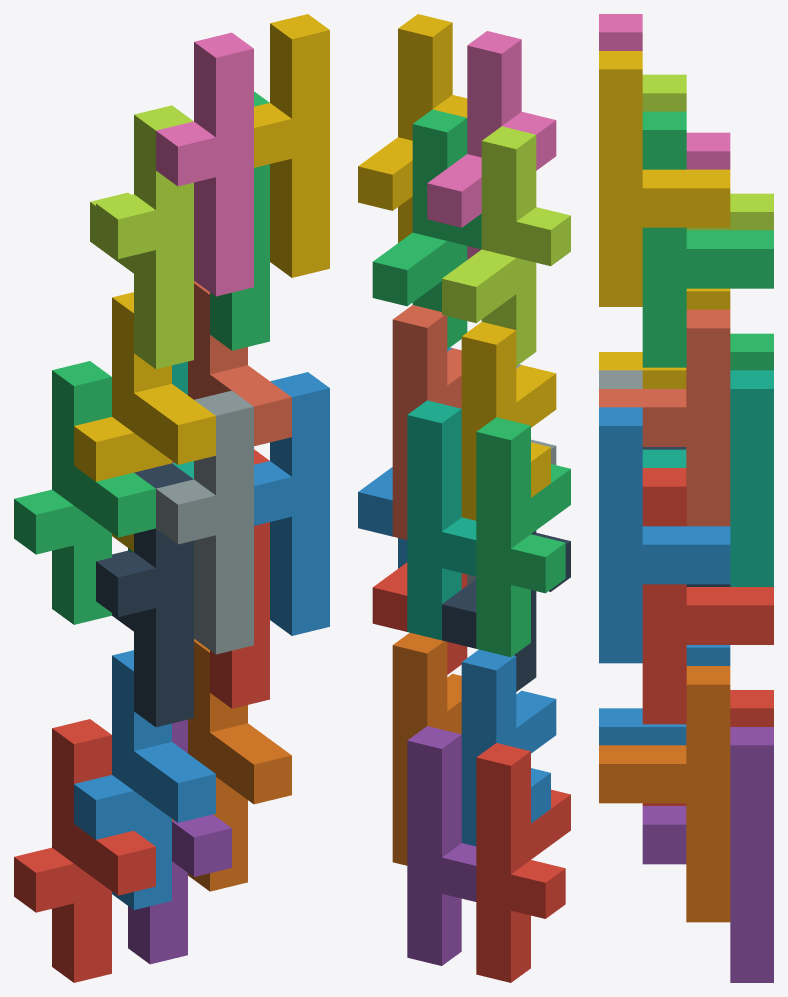
File: tiling.obj
3 views of the same model, side by side, from view 1: azimuth 30°, elevation 25°; view 2: azimuth 150°, elevation 25°; view 3: azimuth 270°, elevation 25° (orthographic). The views are drawn at different scales.
Visible parts, largest first — view 1: copy_1_domain_1, copy_2_domain_4, copy_1_domain_3, copy_2_domain_2, copy_2_domain_8, copy_2_domain_3, copy_2_domain_6, copy_1_domain_2, copy_2_domain_1, copy_1_domain_4, copy_1_domain_6, copy_1_domain_5 (+3 smaller); view 2: copy_1_domain_3, copy_1_domain_1, copy_2_domain_3, copy_1_domain_5, copy_1_domain_7, copy_2_domain_7, copy_2_domain_4, copy_1_domain_4, copy_1_domain_2, copy_2_domain_8, copy_1_domain_8, copy_1_domain_6 (+3 smaller); view 3: copy_1_domain_6, copy_2_domain_6, copy_2_domain_8, copy_2_domain_7, copy_2_domain_5, copy_1_domain_5, copy_1_domain_8, copy_1_domain_7, copy_1_domain_2, copy_2_domain_3, copy_2_domain_4, copy_1_domain_4 (+3 smaller).
Boxes of the visible parts, x1,y1,x2,y2 form: copy_1_domain_1: [14, 719, 155, 982]; copy_2_domain_4: [156, 32, 253, 296]; copy_1_domain_3: [14, 361, 155, 624]; copy_2_domain_2: [156, 390, 253, 654]; copy_2_domain_8: [254, 14, 329, 277]; copy_2_domain_3: [90, 105, 193, 369]; copy_2_domain_6: [254, 372, 329, 635]; copy_1_domain_2: [74, 650, 215, 909]; copy_2_domain_1: [96, 463, 193, 727]; copy_1_domain_4: [74, 292, 215, 551]; copy_1_domain_6: [172, 639, 291, 891]; copy_1_domain_5: [128, 719, 231, 964]; copy_1_domain_3: [476, 417, 570, 657]; copy_1_domain_1: [476, 743, 570, 982]; copy_2_domain_3: [442, 126, 570, 365]; copy_1_domain_5: [407, 726, 476, 965]; copy_1_domain_7: [407, 400, 476, 640]; copy_2_domain_7: [372, 109, 481, 348]; copy_2_domain_4: [427, 31, 556, 259]; copy_1_domain_4: [461, 322, 556, 520]; copy_1_domain_2: [461, 649, 556, 846]; copy_2_domain_8: [358, 14, 467, 242]; copy_1_domain_8: [392, 305, 461, 539]; copy_1_domain_6: [392, 633, 461, 865]; copy_1_domain_6: [599, 666, 730, 922]; copy_2_domain_6: [599, 407, 730, 663]; copy_2_domain_8: [599, 51, 730, 306]; copy_2_domain_7: [642, 111, 773, 367]; copy_2_domain_5: [642, 468, 773, 724]; copy_1_domain_5: [642, 727, 773, 982]; copy_1_domain_8: [599, 309, 730, 526]; copy_1_domain_7: [642, 370, 773, 586]; copy_1_domain_2: [599, 645, 730, 745]; copy_2_domain_3: [642, 74, 773, 230]; copy_2_domain_4: [599, 14, 730, 169]; copy_1_domain_4: [599, 288, 730, 388].
Bounding box in the file's own units: 6 × 24 × 4.
